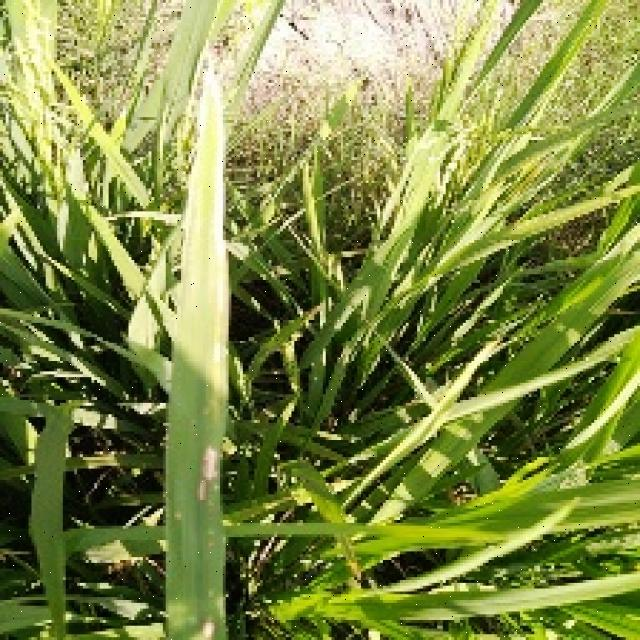-: (394, 205, 637, 640)
